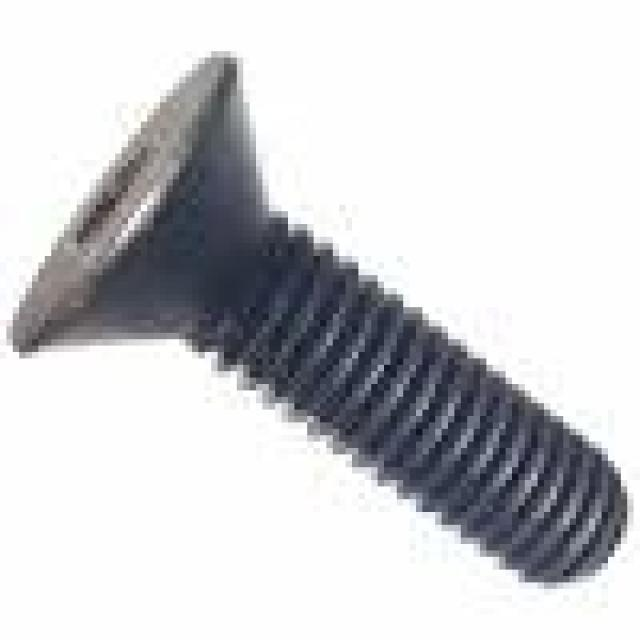Screw: (6, 51, 634, 589)
